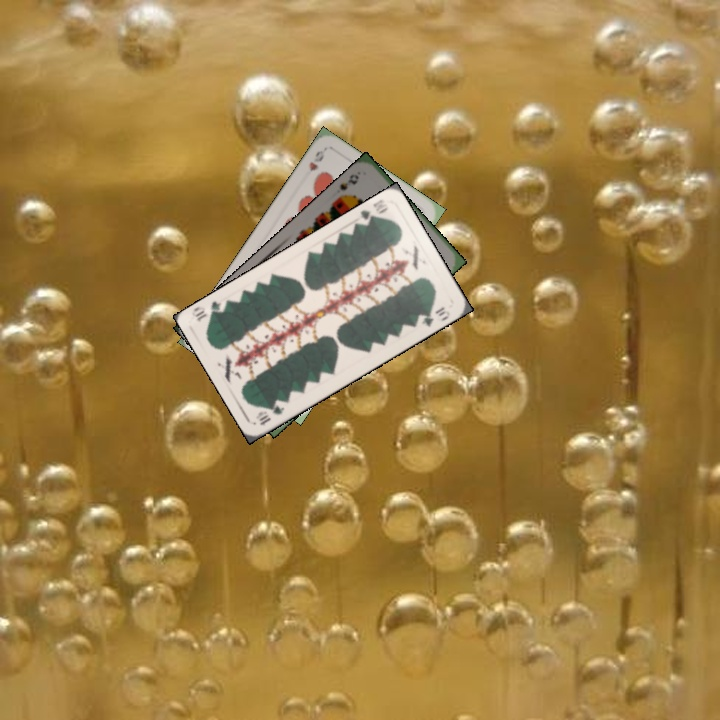G10: (356, 195, 390, 226), (252, 399, 287, 428)
H9: (305, 146, 327, 174)
S9: (333, 170, 361, 203)
